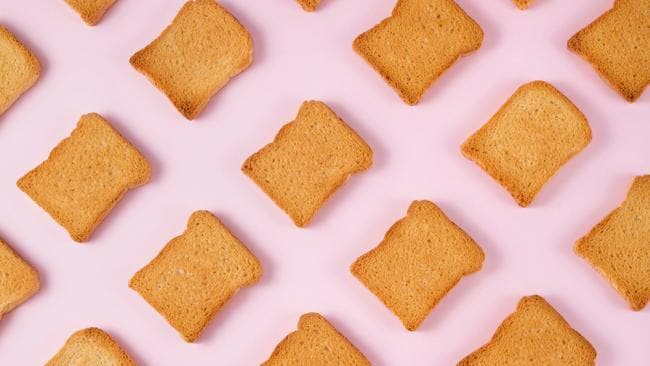slice of bread: (249, 100, 369, 228), (474, 83, 595, 204), (21, 131, 155, 231), (138, 4, 251, 92)
